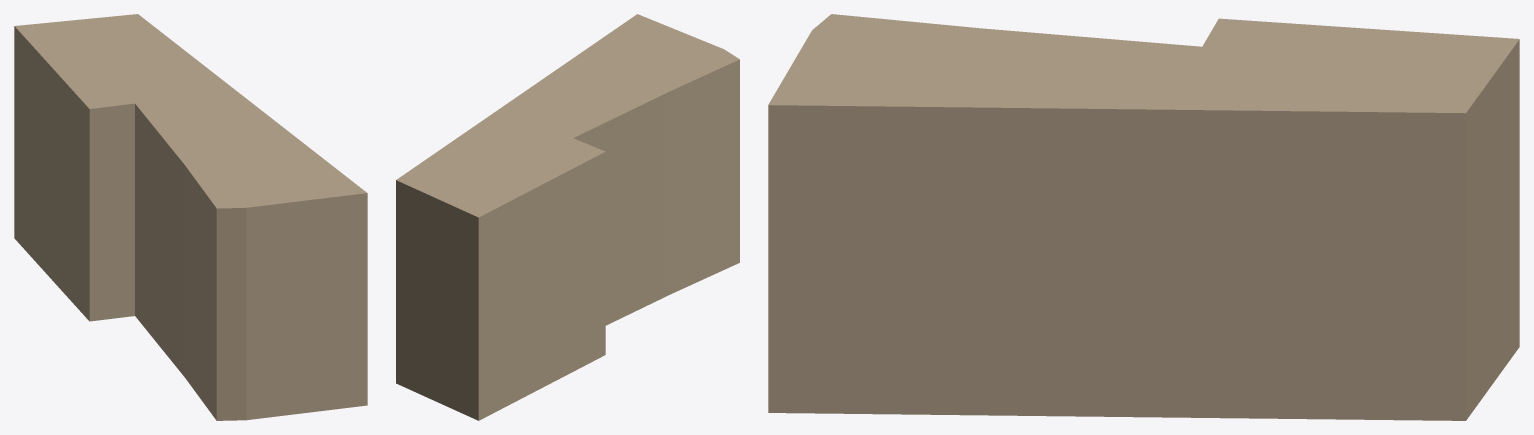
File: bld_97760426.dae
The picture shows the model from 3 angles, left to right: view 1: azimuth 30°, elevation 25°; view 2: azimuth 150°, elevation 25°; view 3: azimuth 270°, elevation 25°; orthographic projection. The views are drawn at different scales.
Parts seen in each view (by area): view 1: Mind; view 2: Mind; view 3: Mind.
Part boxes in pixels (x1=…): Mind: x1=14, y1=14, x2=367, y2=420; Mind: x1=396, y1=14, x2=739, y2=420; Mind: x1=768, y1=14, x2=1519, y2=420.
Size of the model in its own units: 5.53 by 17.7 by 8.
